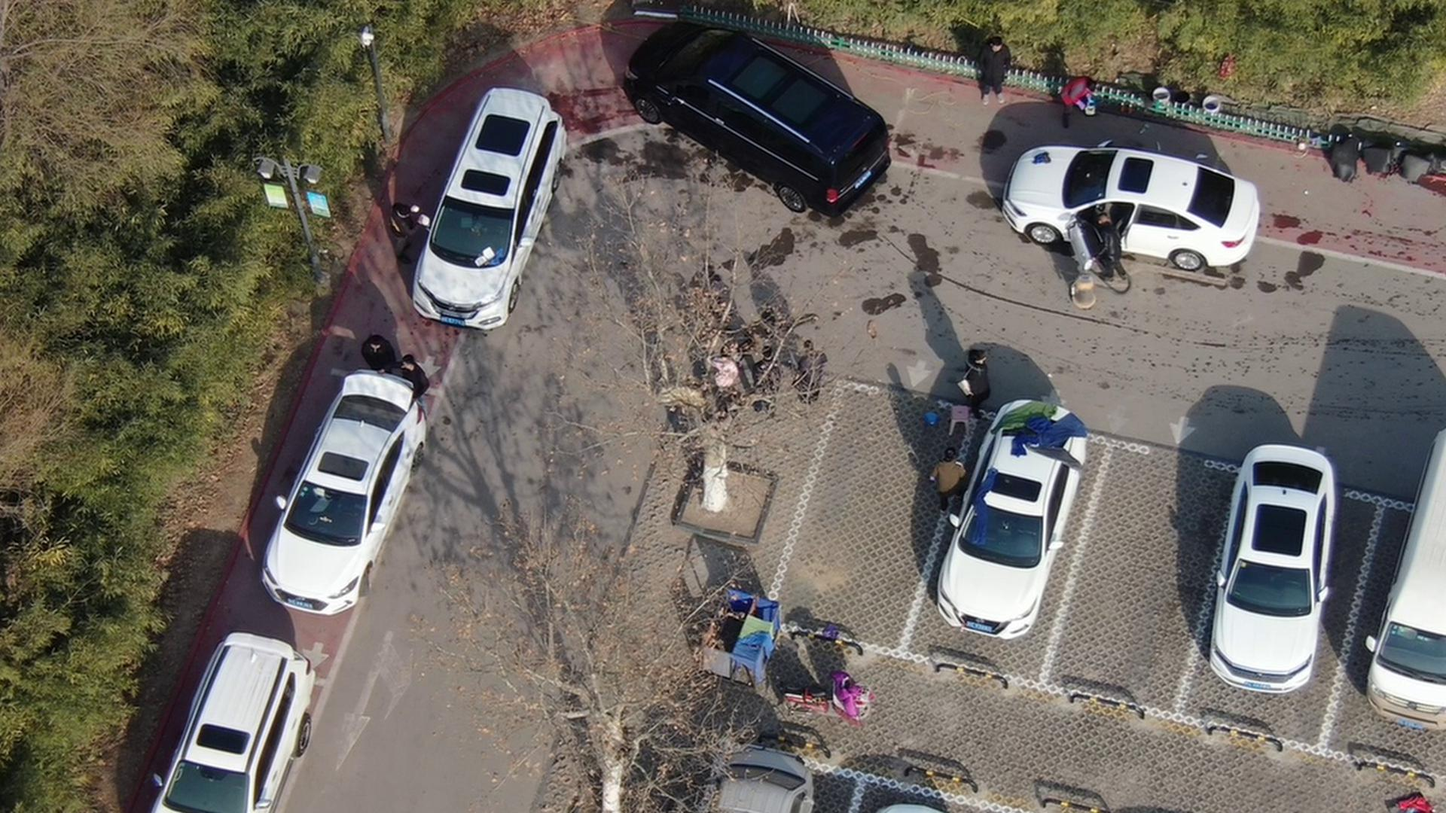human: (1097, 206, 1140, 288), (793, 343, 838, 410), (393, 193, 432, 270), (981, 30, 1022, 103), (932, 444, 970, 517), (755, 340, 789, 416), (959, 347, 993, 422), (1068, 66, 1104, 128), (401, 348, 434, 409), (366, 333, 404, 375)
